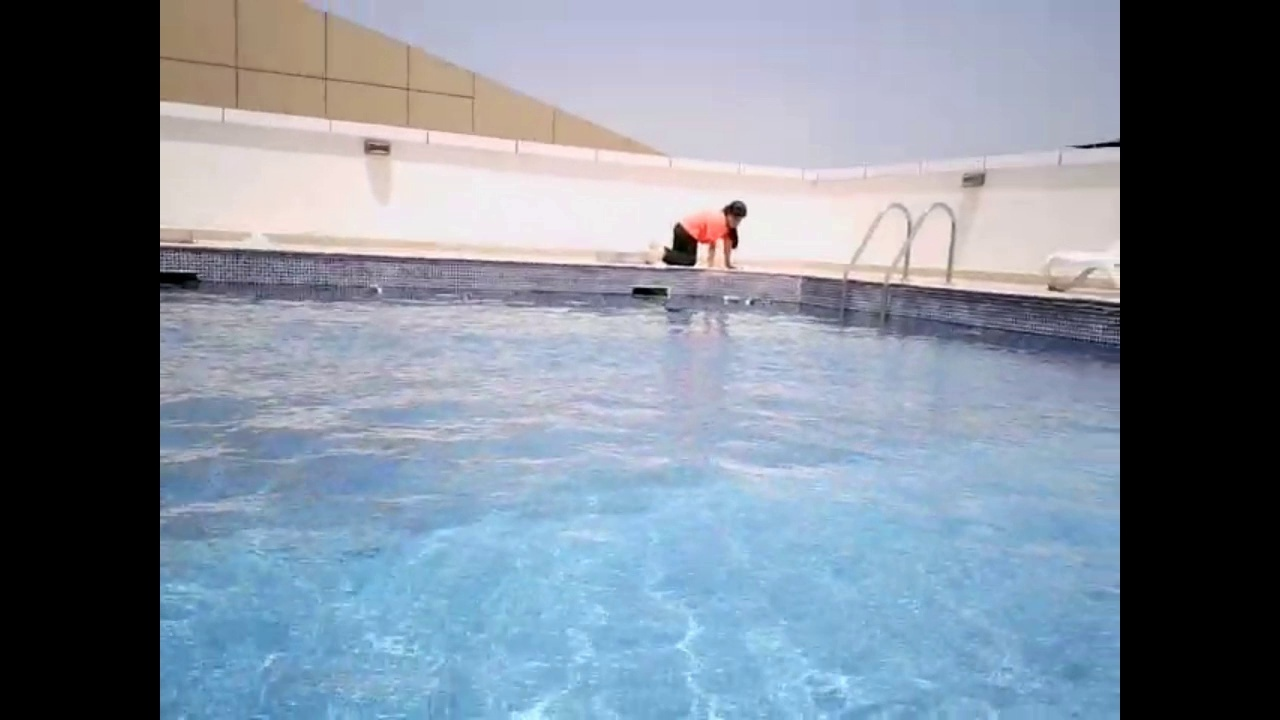debris: (741, 294, 770, 310), (363, 282, 386, 298), (718, 292, 742, 307)
